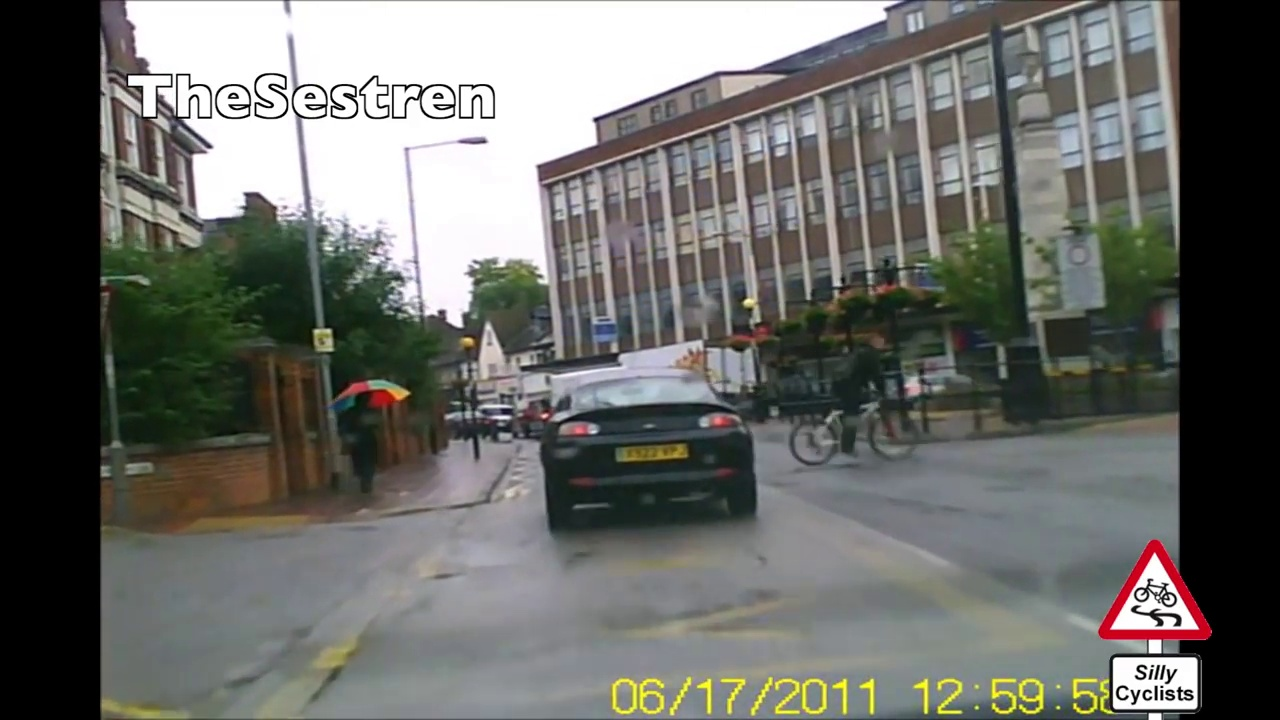cyclist_side: (786, 338, 917, 469)
